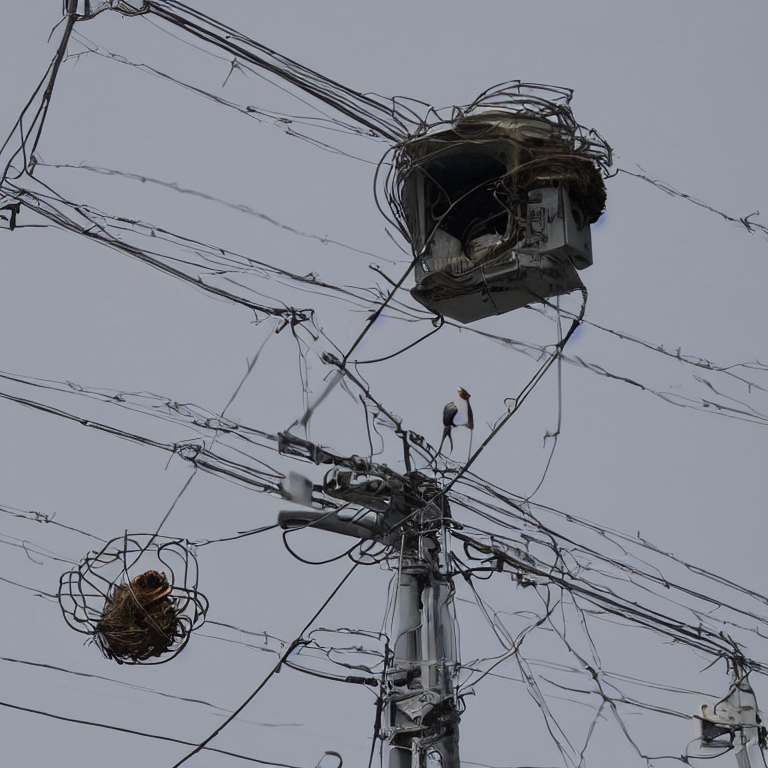nest: (96, 576, 183, 655)
